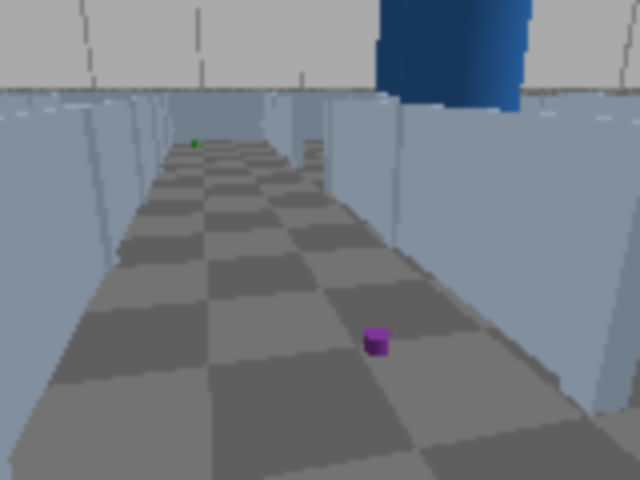puck: (363, 327, 390, 356)
